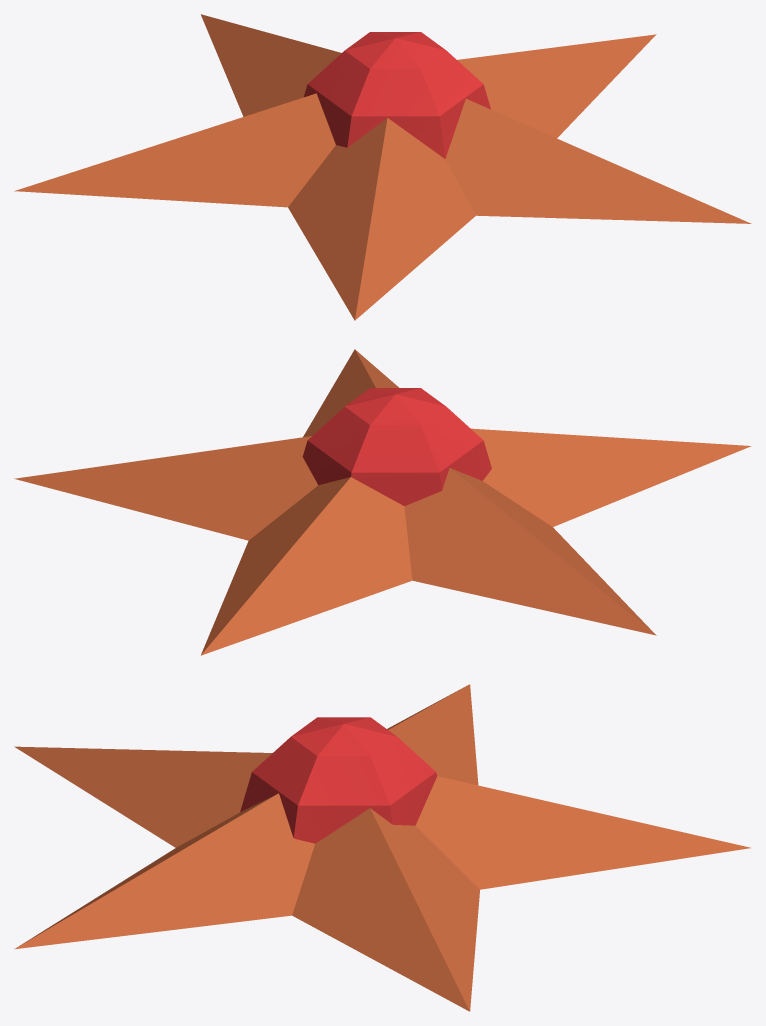
Rendered from Starfish.fbx.
3 views of the same model, one above another, from view 1: azimuth 30°, elevation 25°; view 2: azimuth 150°, elevation 25°; view 3: azimuth 270°, elevation 25° (orthographic). The views are drawn at different scales.
Parts seen in each view (by area): view 1: Circle; view 2: Circle; view 3: Circle.
Part boxes in pixels (x1,y1,x2,y2): Circle: (14, 14, 751, 320); Circle: (14, 349, 751, 655); Circle: (14, 684, 750, 1011).
Bounding box in the file's own units: 190 × 45.82 × 181.
